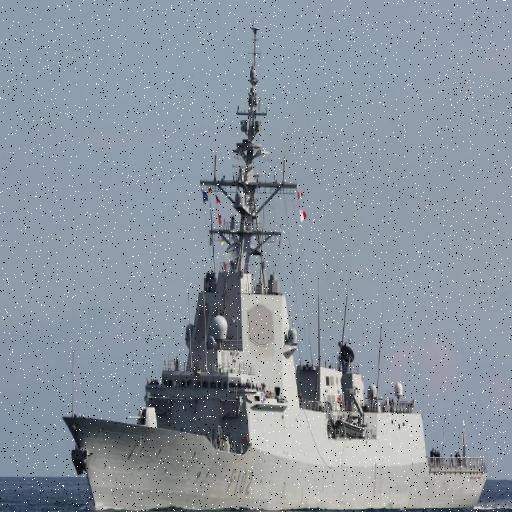Fragata: (54, 27, 494, 512)
